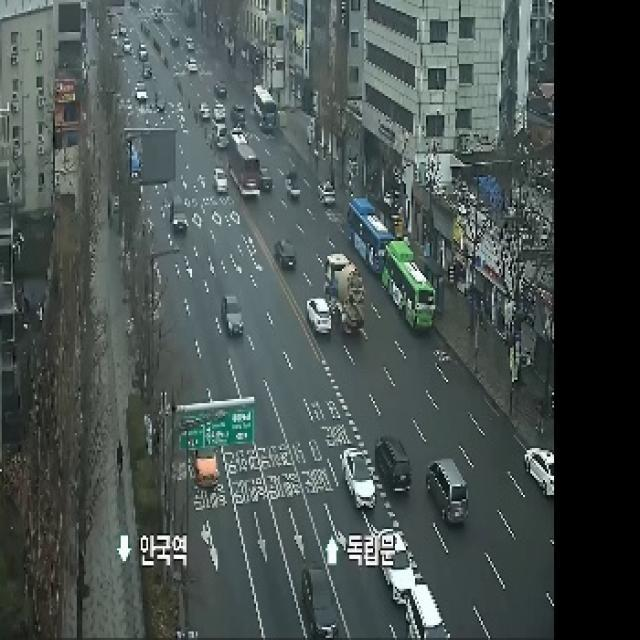bus: (382, 241, 435, 330), (348, 198, 394, 272), (229, 129, 259, 196), (254, 85, 276, 133)
car: (382, 551, 448, 638), (426, 459, 468, 524), (304, 569, 338, 639), (341, 448, 375, 509), (375, 436, 411, 492), (524, 448, 554, 496), (221, 295, 244, 336), (306, 298, 331, 333), (212, 102, 229, 148), (194, 457, 218, 487), (274, 240, 295, 270), (285, 171, 301, 199), (318, 181, 335, 206), (171, 212, 189, 233), (214, 168, 228, 194), (231, 105, 245, 128), (135, 82, 149, 104), (260, 168, 272, 192), (214, 81, 228, 98), (155, 92, 166, 112), (185, 58, 199, 73), (199, 102, 210, 121), (152, 6, 162, 22), (139, 44, 148, 61), (142, 62, 151, 78), (122, 39, 132, 53), (186, 38, 195, 51), (136, 91, 146, 101)
lorry: (325, 254, 362, 333)
road-signs: (176, 398, 254, 449)
